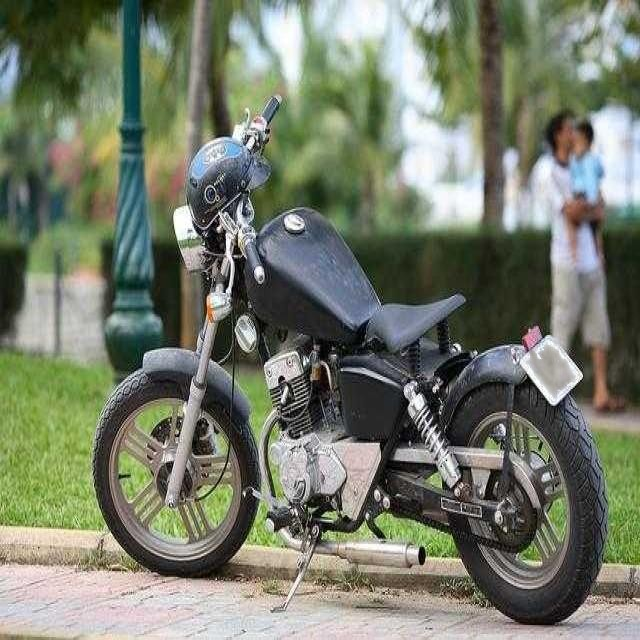motorcycle: (97, 117, 605, 611)
